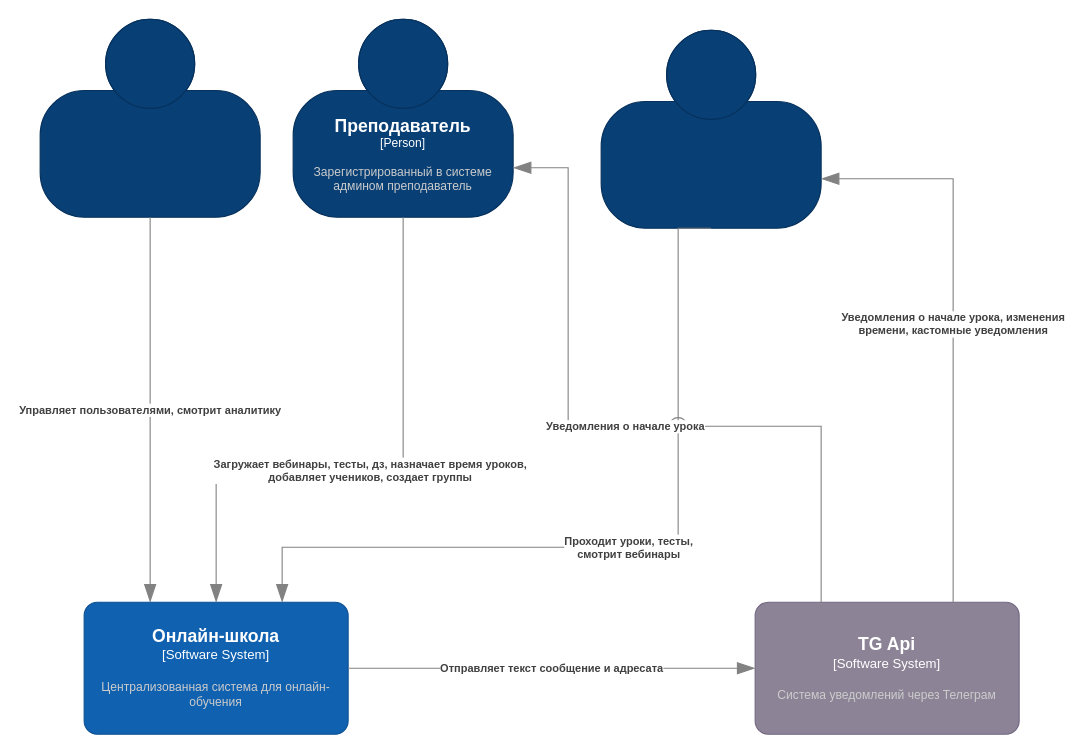
Some shapes in this 1084 by 754 pixel diagram are drawn without their labels. Each missing label, with the centre of its shape:
"Администратор [Person] Отслеживание аналитики использования приложения" goes at [149,117].
"Ученик [Person] Гость или зарегистрированный пользователь" goes at [710,128].
